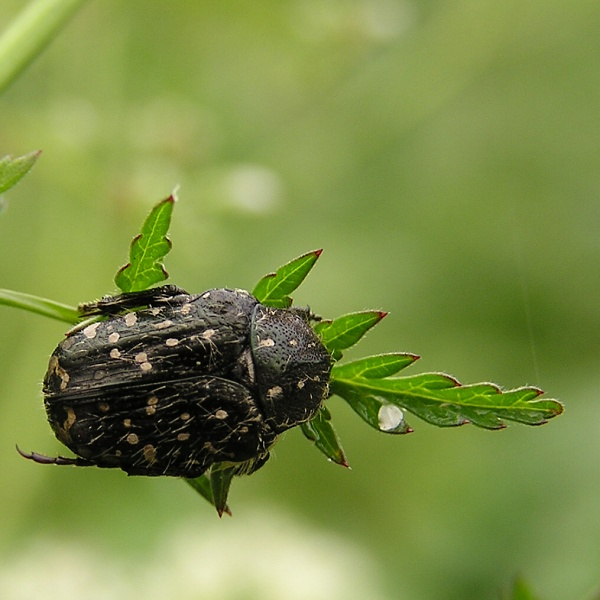Oxythyrea_funesta: (7, 272, 340, 482)
